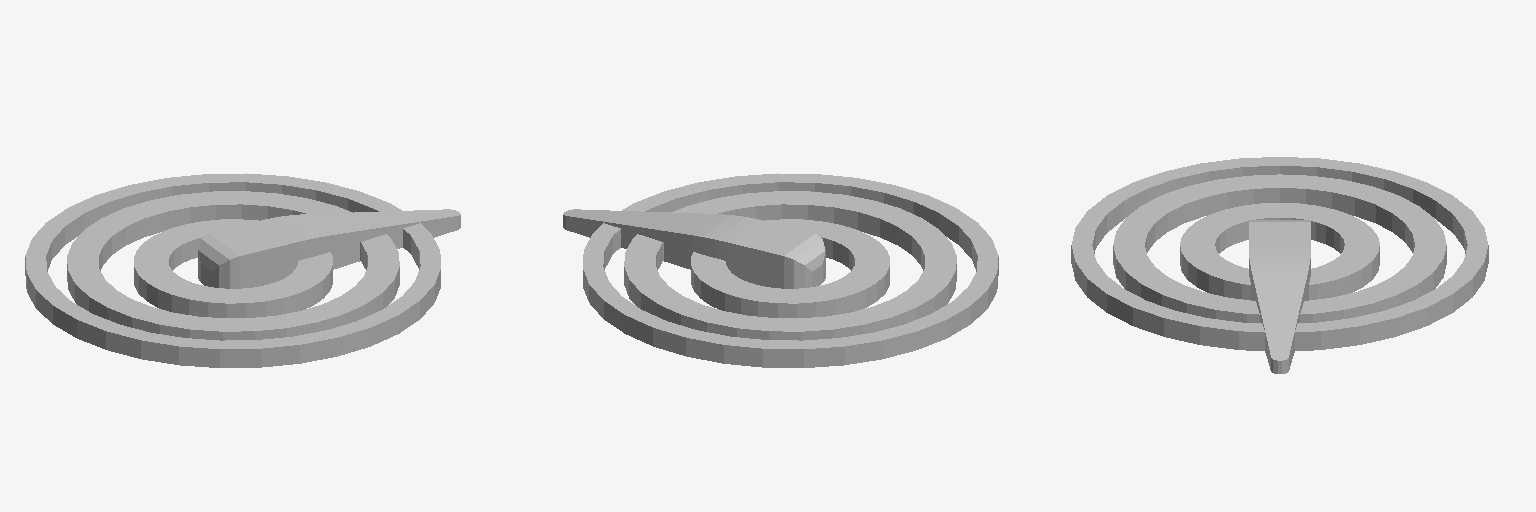
File: player_spawn.obj
3 views of the same model, side by side, from view 1: azimuth 30°, elevation 25°; view 2: azimuth 150°, elevation 25°; view 3: azimuth 270°, elevation 25° (orthographic).
Parts seen in each view (by area): view 1: Cube; view 2: Cube; view 3: Cube.
Boxes of the visible parts, x1,y1,x2,y2 form: Cube: [25, 173, 460, 367]; Cube: [563, 173, 998, 367]; Cube: [1071, 157, 1488, 373].
Bounding box in the file's own units: 33.75 × 3.02 × 30.